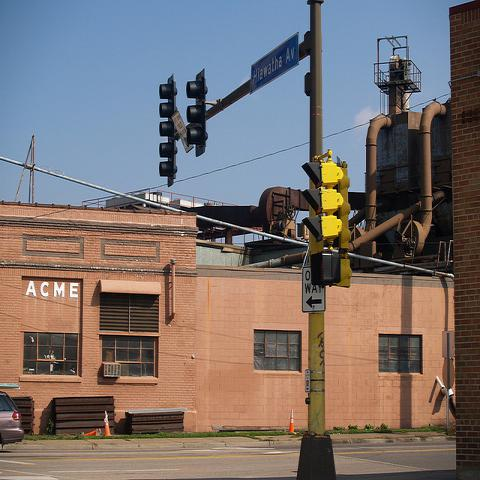car: (0, 392, 24, 445)
